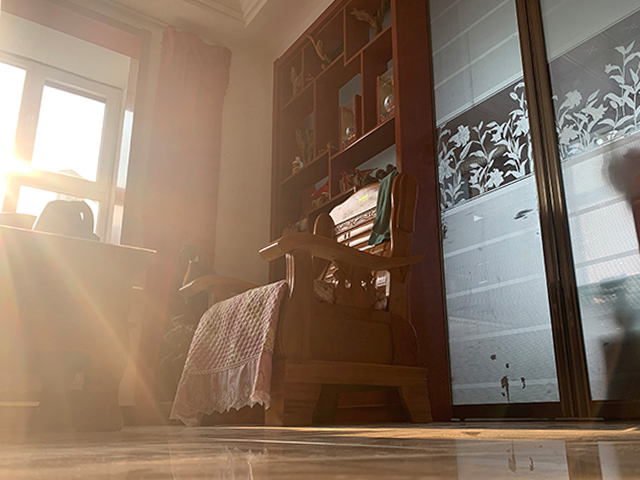sofa: (169, 172, 436, 428)
